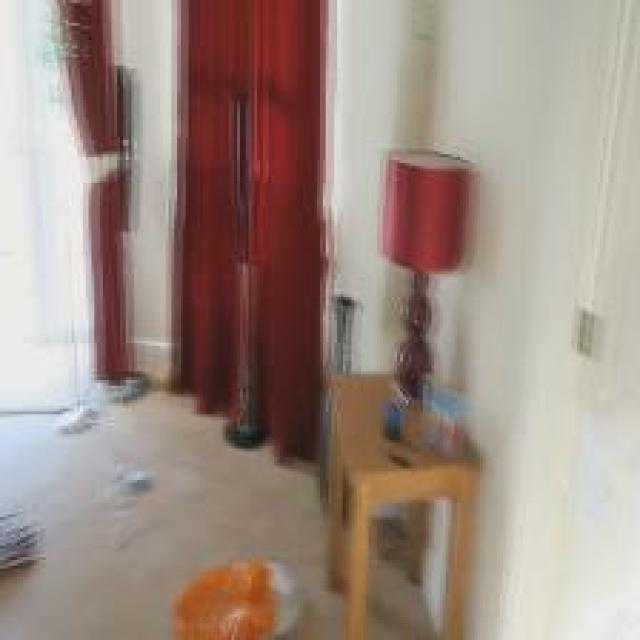other: (166, 1, 311, 448), (51, 0, 140, 383), (360, 125, 490, 292), (165, 550, 278, 630)
